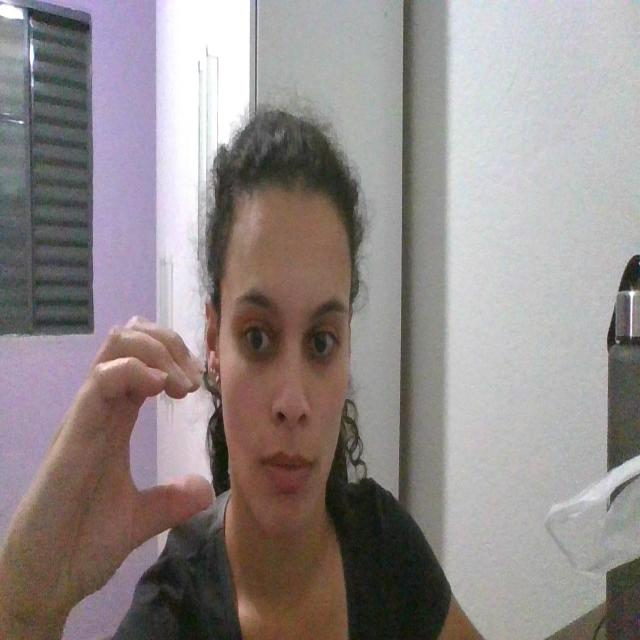C: (50, 320, 223, 581)
